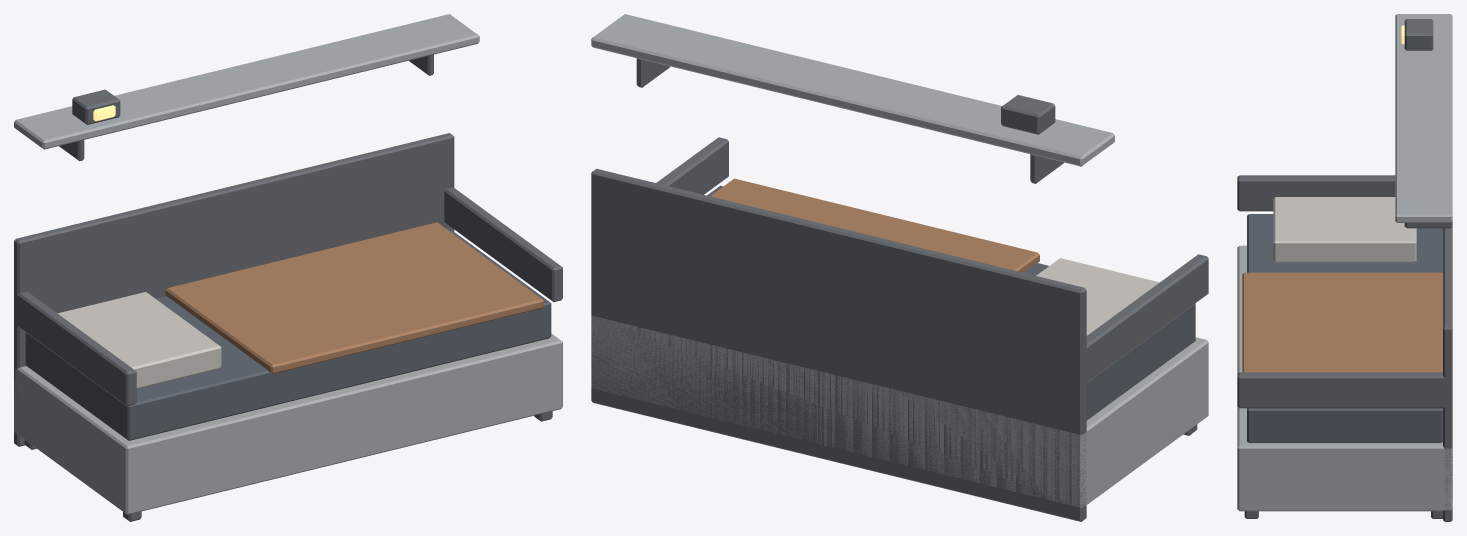
The model's file is bunk.glb.
3 views of the same model, side by side, from view 1: azimuth 30°, elevation 25°; view 2: azimuth 150°, elevation 25°; view 3: azimuth 270°, elevation 25° (orthographic). The views are drawn at different scales.
Parts seen in each view (by area): view 1: bunk; view 2: bunk; view 3: bunk.
Boxes of the visible parts, <box> form: bunk: <box>14,14,562,521</box>; bunk: <box>591,14,1208,521</box>; bunk: <box>1237,14,1452,521</box>.
Size of the model in its own units: 2 by 1.5 by 0.9.
